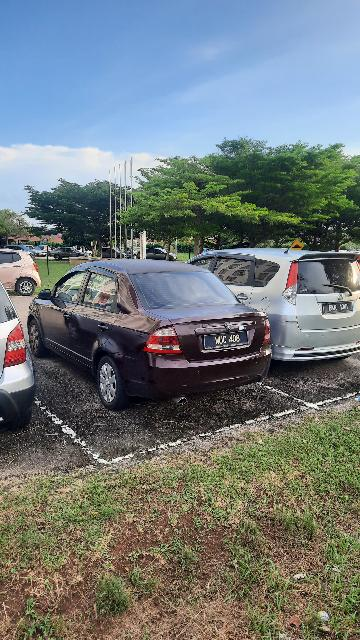License_Plate: (202, 333, 252, 349), (322, 299, 357, 316)
car: (29, 254, 270, 415), (182, 251, 360, 363), (2, 270, 53, 436)
